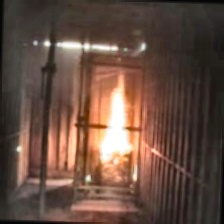fire: (94, 74, 144, 172)
